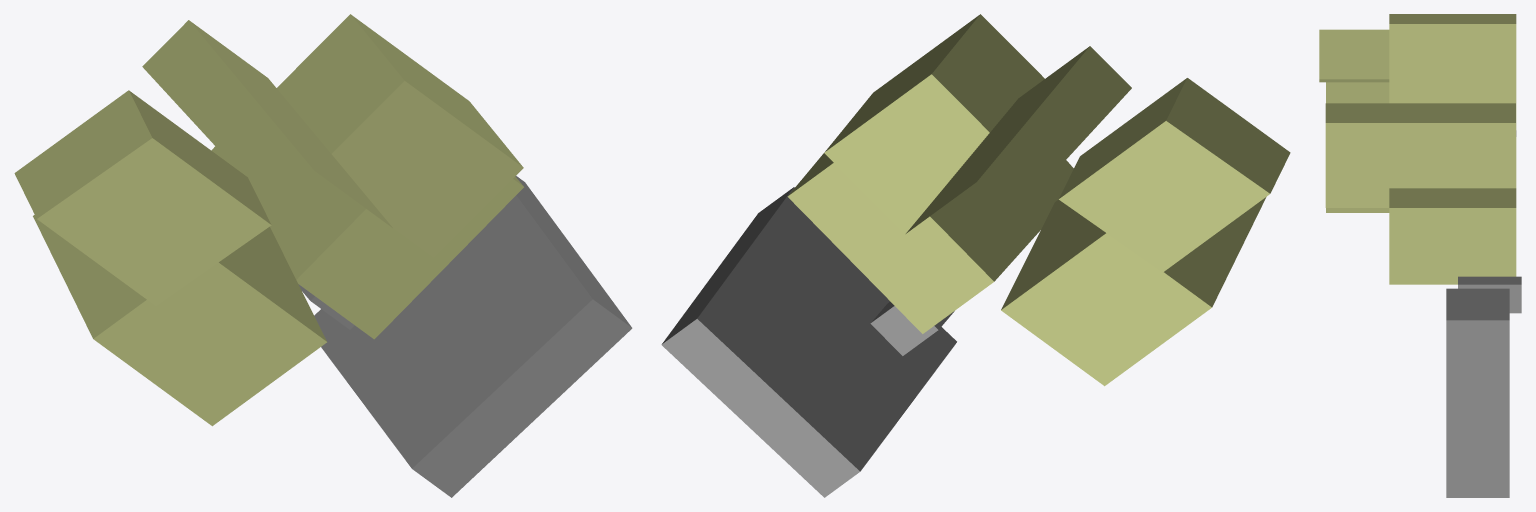
The picture shows the model from 3 angles, left to right: view 1: azimuth 30°, elevation 25°; view 2: azimuth 150°, elevation 25°; view 3: azimuth 270°, elevation 25°; orthographic projection. The views are drawn at different scales.
Parts seen in each view (by area): view 1: 0_1_1_3_2_2_3_3_3_1; view 2: 0_1_1_3_2_2_3_3_3_1; view 3: 0_1_1_3_2_2_3_3_3_1.
Part boxes in pixels (bbox=[...]): 0_1_1_3_2_2_3_3_3_1: bbox=[14, 14, 632, 497]; 0_1_1_3_2_2_3_3_3_1: bbox=[661, 14, 1290, 497]; 0_1_1_3_2_2_3_3_3_1: bbox=[1319, 14, 1521, 497].
Size of the model in its own units: 25.22 by 20.81 by 9.56.
